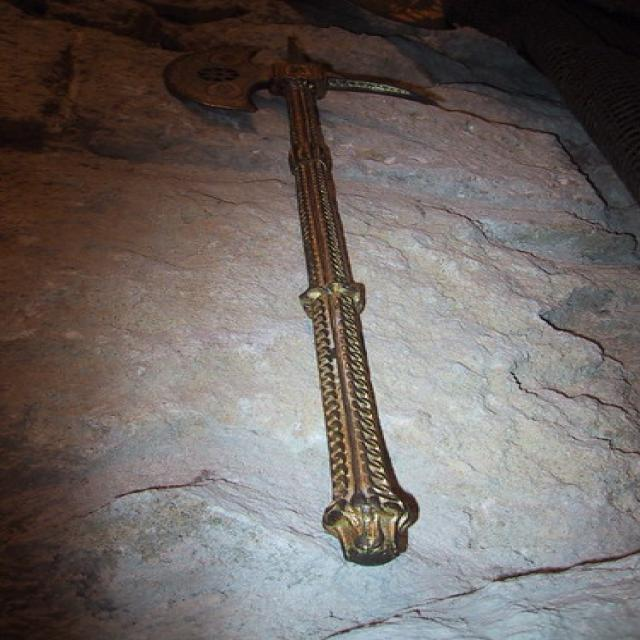Axe: (166, 41, 420, 564)
